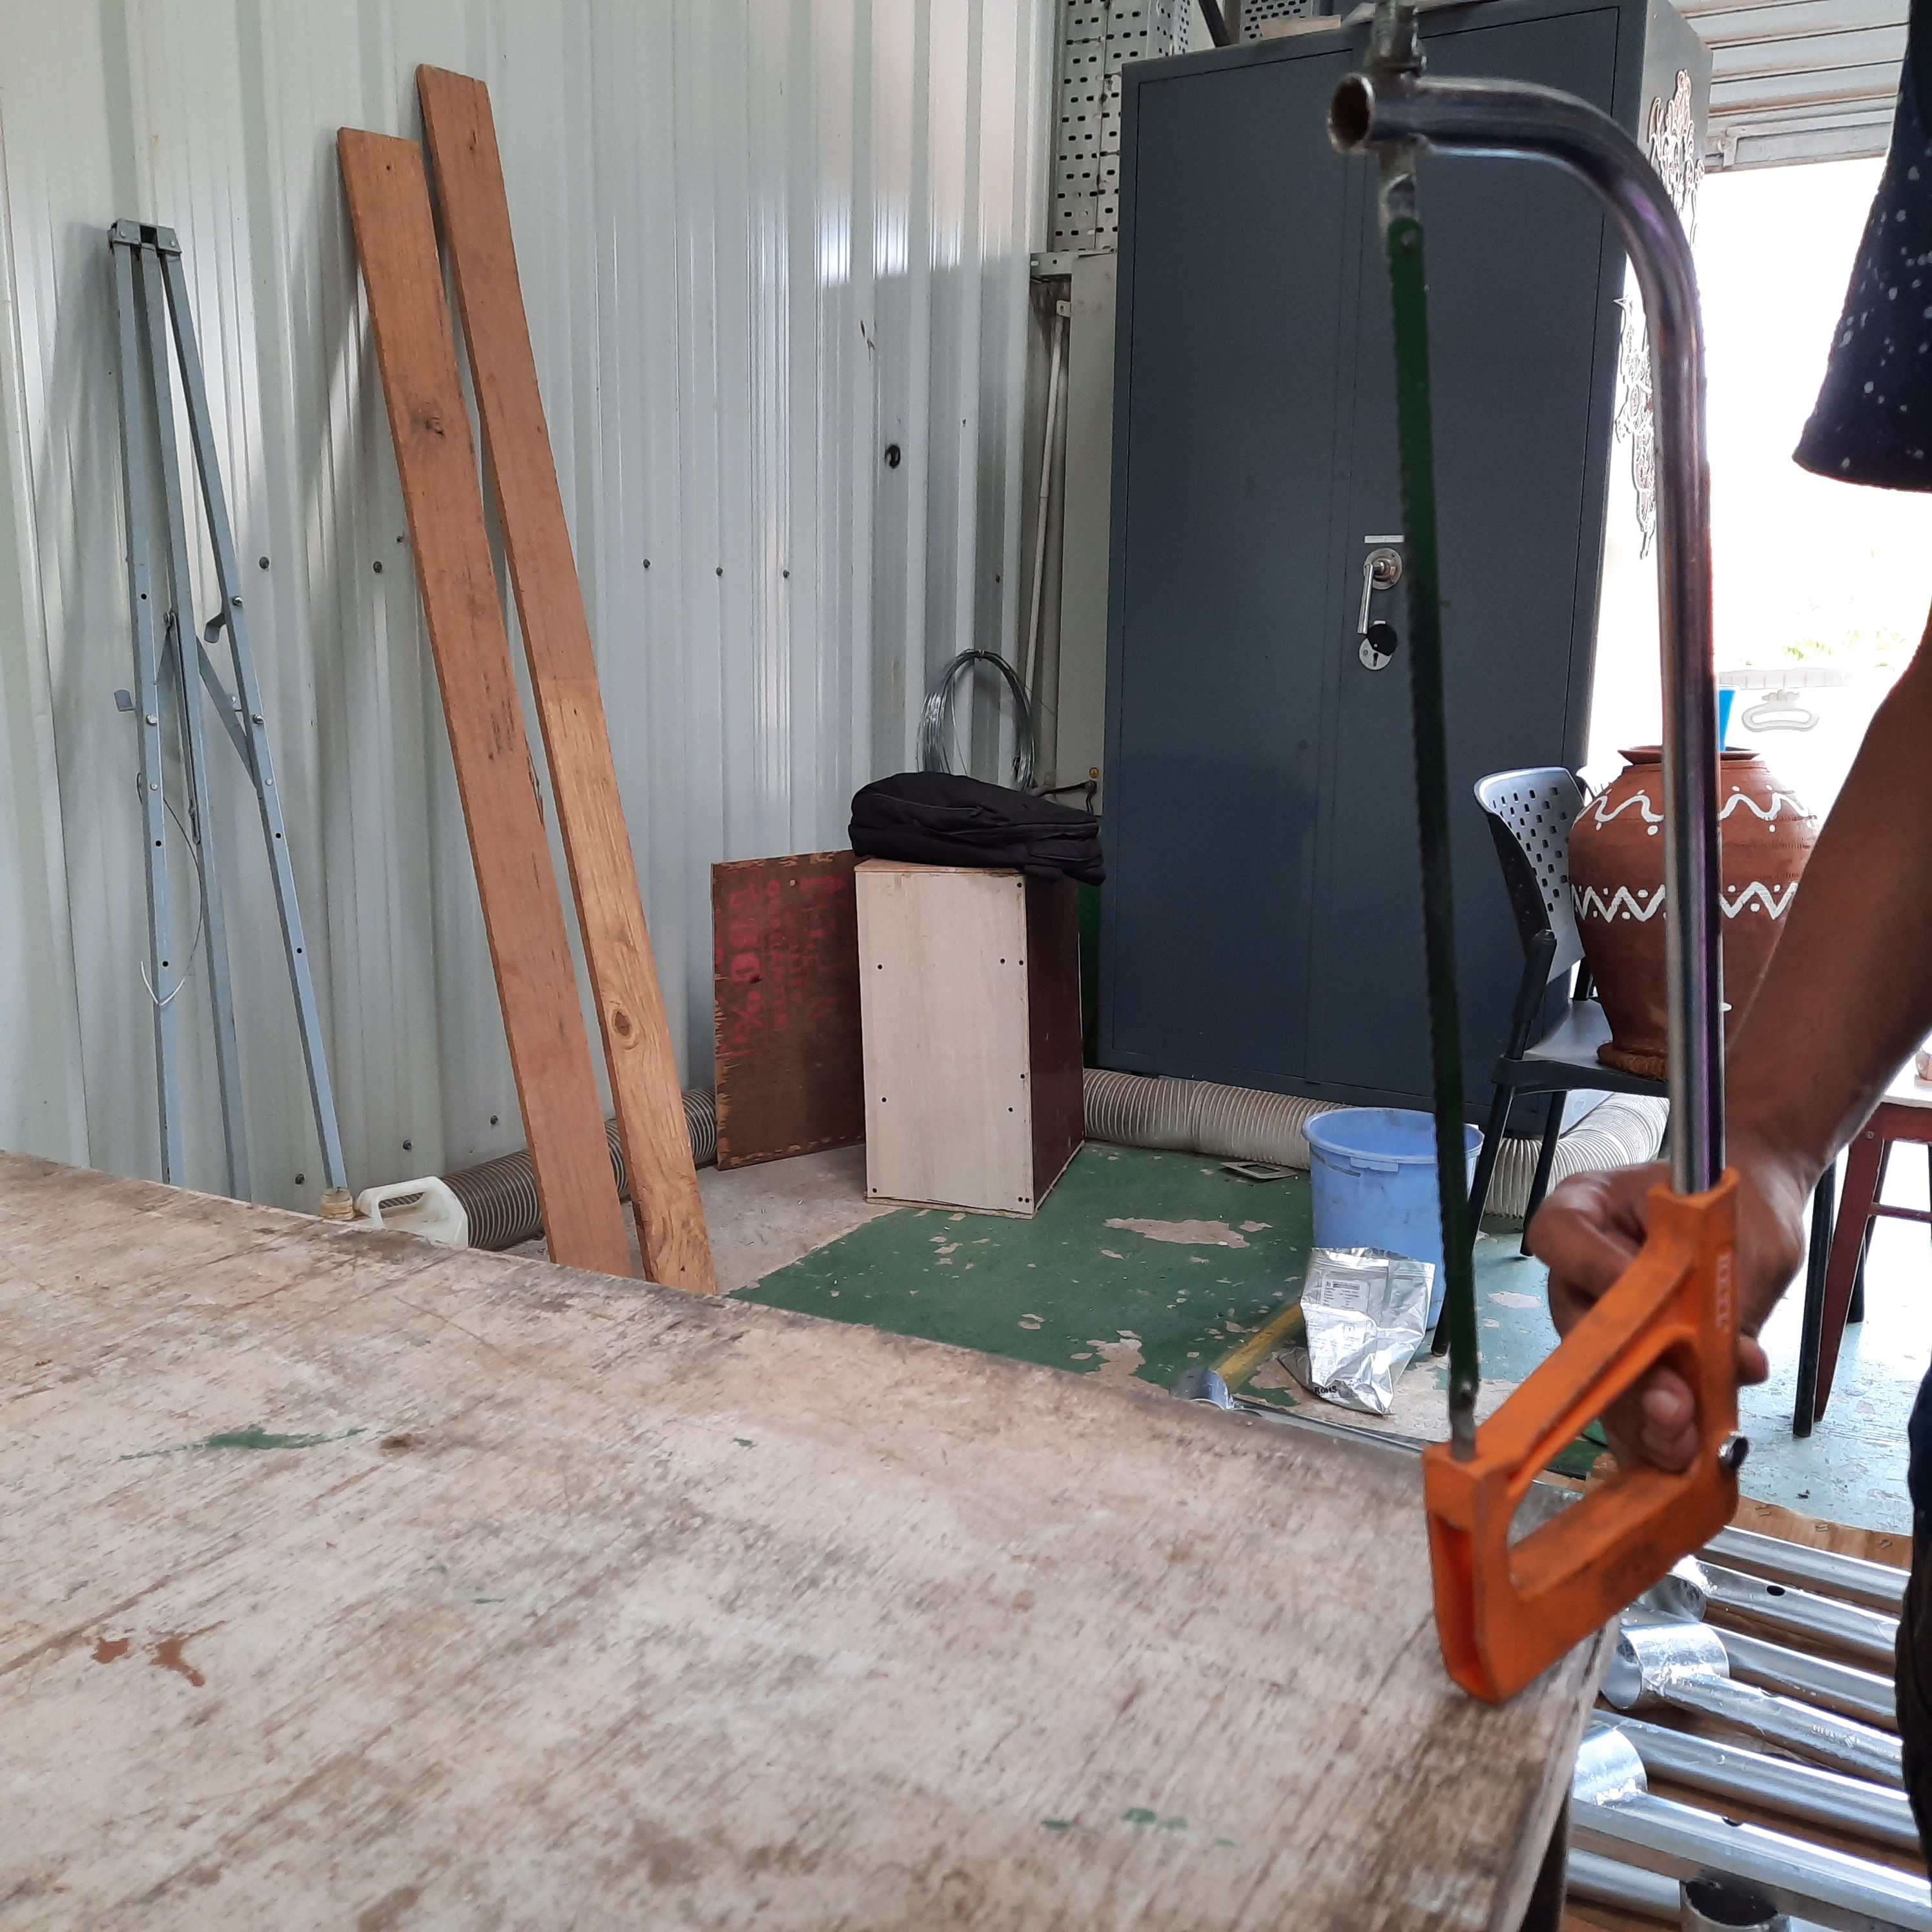Hexaframe: (1315, 4, 1796, 1714)
